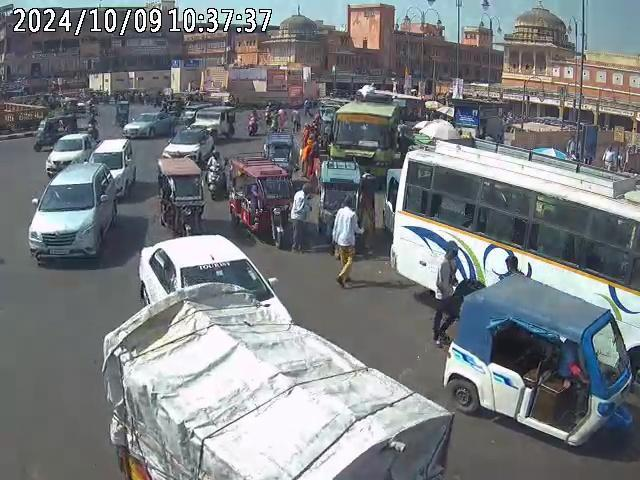auto: (443, 271, 634, 452), (228, 154, 296, 247), (155, 152, 206, 237)
bus: (390, 134, 639, 378), (328, 87, 401, 176)
car: (25, 158, 118, 268), (121, 110, 174, 140), (190, 106, 234, 138)
lorry: (100, 281, 452, 480)
person: (431, 242, 470, 344), (330, 196, 358, 283), (290, 182, 311, 250)
scooty-rider: (206, 150, 226, 199)
